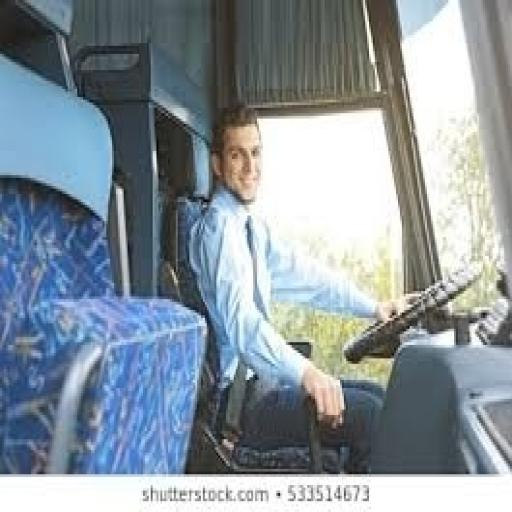sitting: (184, 100, 419, 464)
